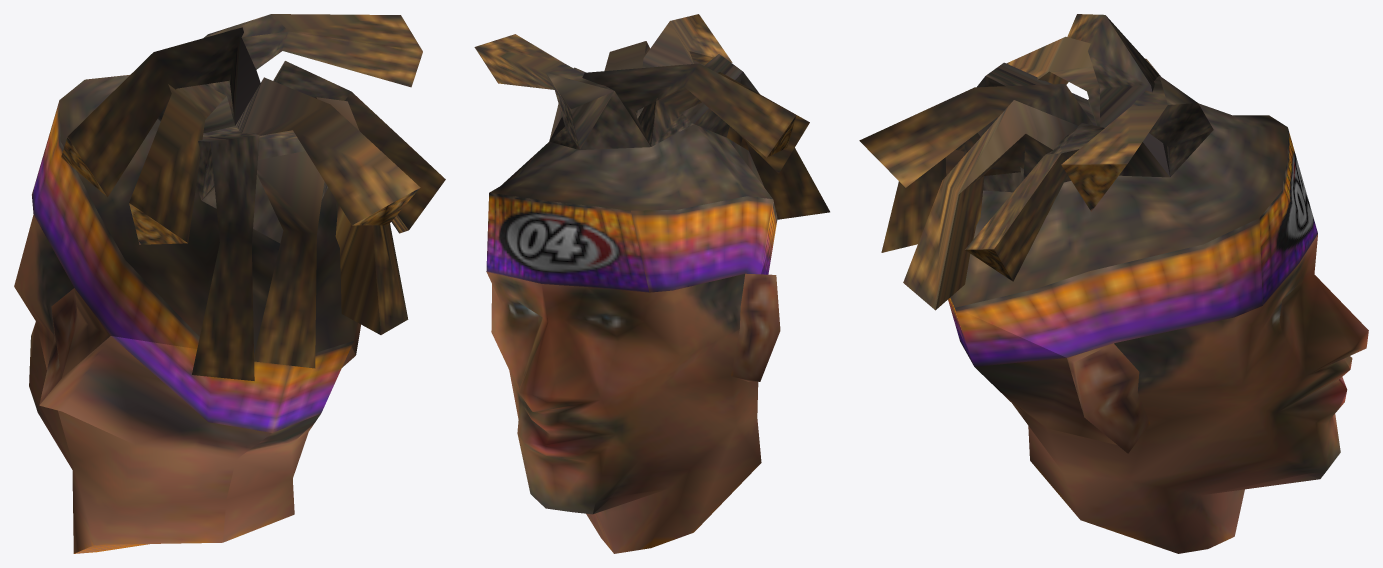
The model's file is so2k4.ico.obj.
The picture shows the model from 3 angles, left to right: view 1: azimuth 30°, elevation 25°; view 2: azimuth 150°, elevation 25°; view 3: azimuth 270°, elevation 25°; orthographic projection. The views are drawn at different scales.
Size of the model in its own units: 2.39 by 3.46 by 3.16.
1 material, 1 textured.
